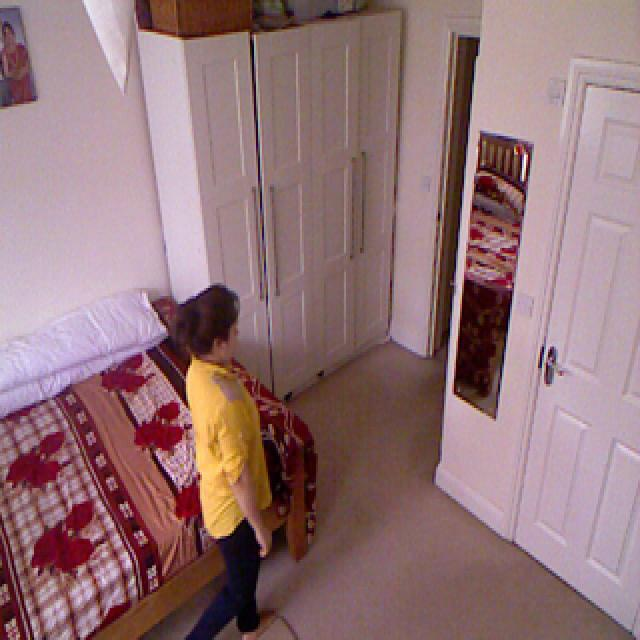standing: (174, 279, 293, 640)
